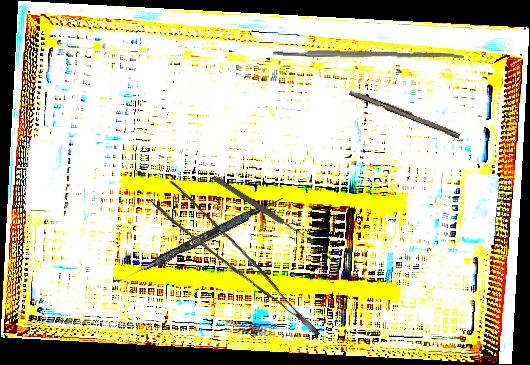Scalpel Handle: (348, 88, 462, 139), (272, 48, 465, 60)
Spatula Surgical: (112, 191, 285, 290)
Surgical Spoon: (211, 174, 315, 245)
Tissue Forceps: (149, 172, 320, 361)
